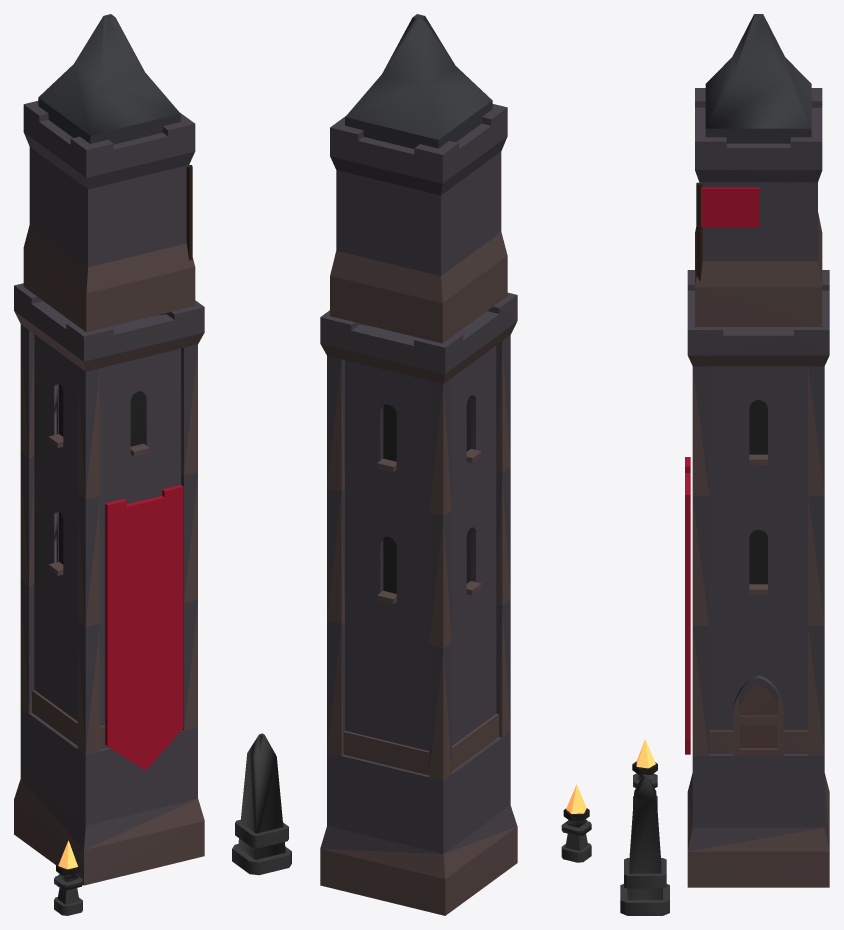
Rendered from ntower_l3.glb.
3 views of the same model, side by side, from view 1: azimuth 30°, elevation 25°; view 2: azimuth 150°, elevation 25°; view 3: azimuth 270°, elevation 25° (orthographic). The views are drawn at different scales.
Parts seen in each view (by area): view 1: ntower_l3; view 2: ntower_l3; view 3: ntower_l3.
Part boxes in pixels (x1,y1,x2,y2): ntower_l3: [14, 14, 291, 915]; ntower_l3: [320, 14, 591, 915]; ntower_l3: [620, 14, 829, 915].
Bounding box in the file's own units: 2.98 × 10.48 × 2.36.
